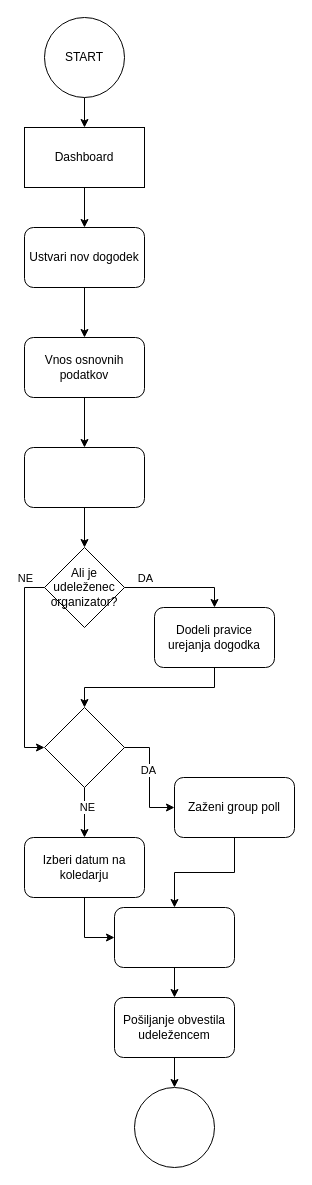
Image size: 312x1185. Some labels were removed from this diagram. The shapes that lost their labels are listed below. From the top down, each one's box as (x1, y1, x2, y2) in pixels, then its label:
(24, 446, 144, 508): Povabimo udeležencev
(44, 706, 124, 788): Ali je datum že znan?
(114, 906, 234, 968): Zapis v koledar
(134, 1086, 214, 1168): END
